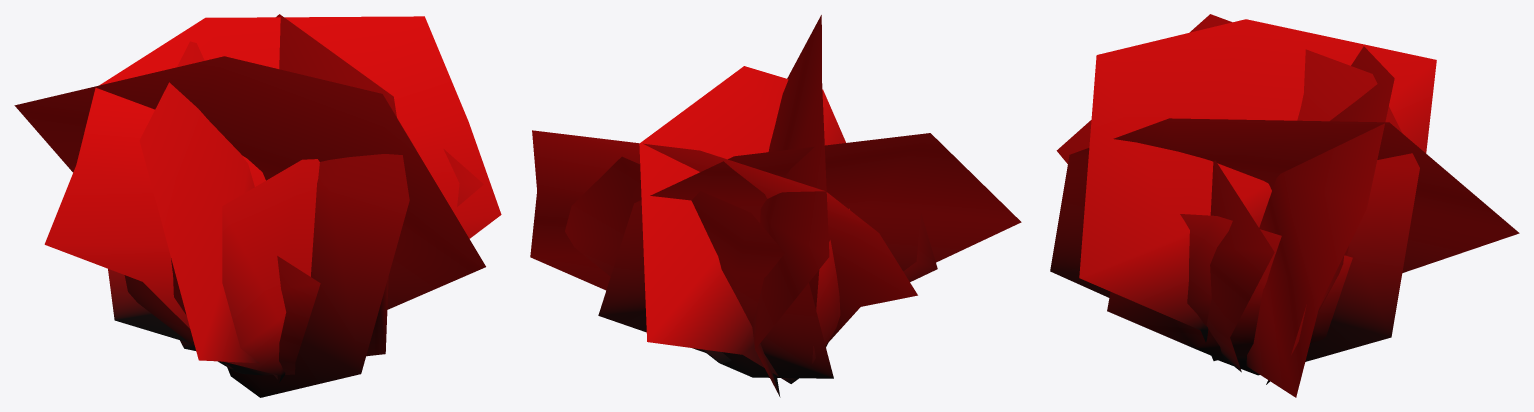
The model's file is Bush_1.FBX.
3 views of the same model, side by side, from view 1: azimuth 30°, elevation 25°; view 2: azimuth 150°, elevation 25°; view 3: azimuth 270°, elevation 25° (orthographic). The views are drawn at different scales.
Visible parts, largest first — view 1: Bush_1; view 2: Bush_1; view 3: Bush_1.
Part boxes in pixels (x1=…): Bush_1: x1=14, y1=14, x2=501, y2=397; Bush_1: x1=530, y1=15, x2=1021, y2=397; Bush_1: x1=1050, y1=14, x2=1519, y2=397.
Bounding box in the file's own units: 180 × 173 × 130.
